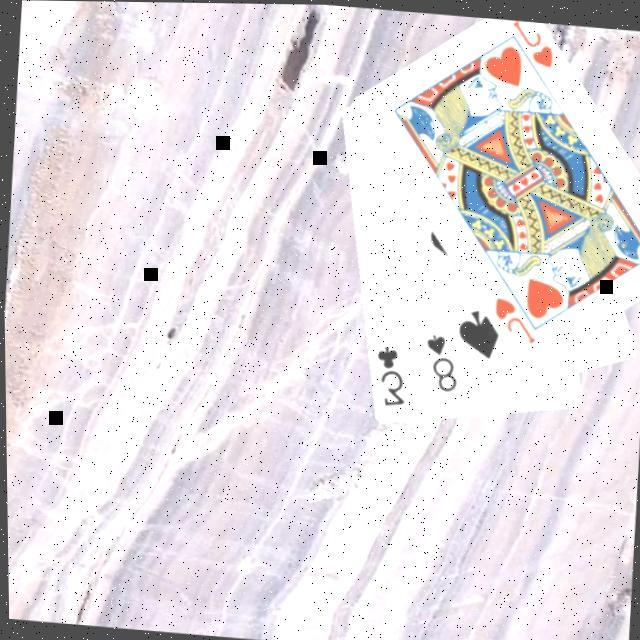3C: (369, 340, 411, 408)
8S: (419, 327, 464, 395)
JH: (488, 291, 542, 345), (506, 18, 560, 69)
